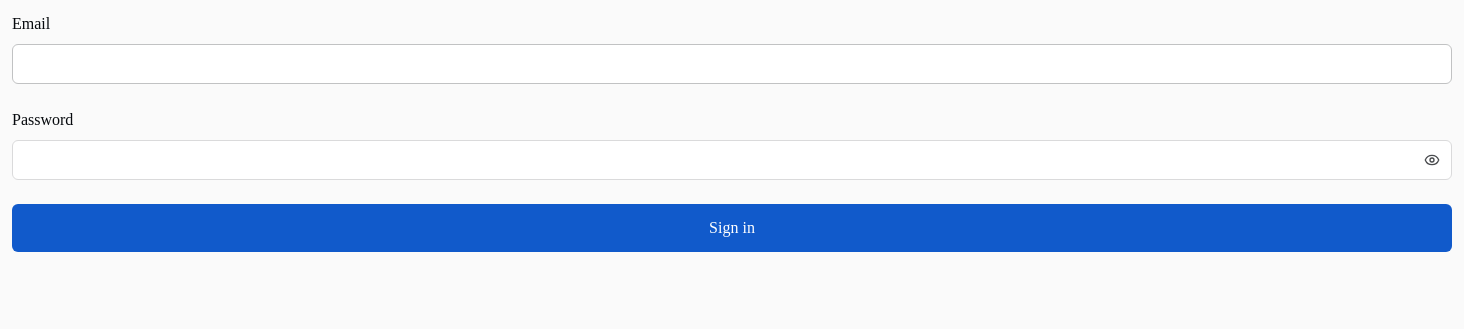
Test: LoginForm › on wrong credentials keeps the email, clears the password and focuses it
This screenshot has width=1464, height=329.
Type "jane@example.com" into the field labelled "Email" at x=732, y=64, box [12,44,1452,84]
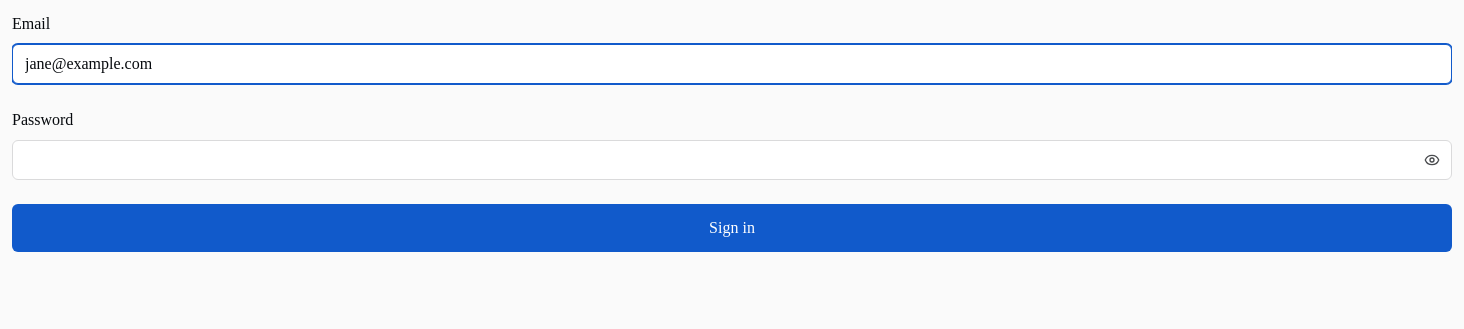
Type "wrong-pass1" into the password field labelled "Password" at x=732, y=160, box [12,140,1452,180]
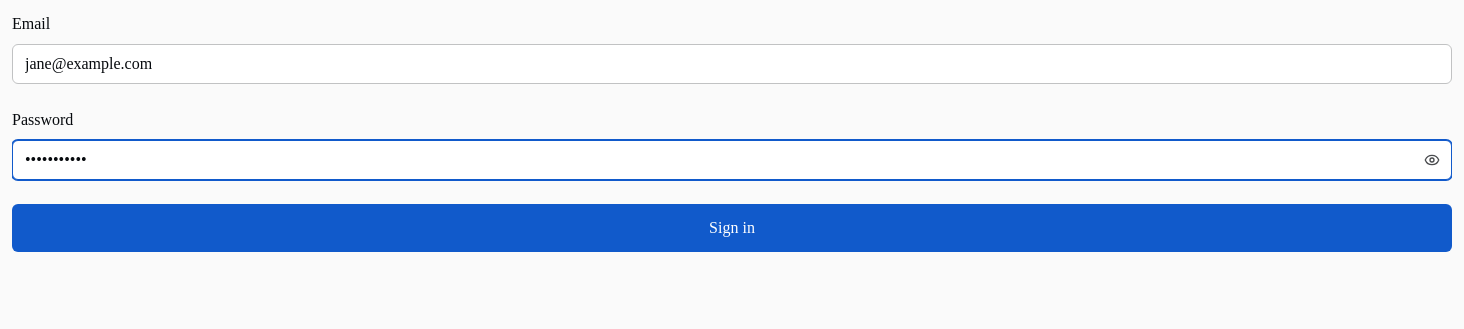
Click the button "Sign in" at x=732, y=228, box [12,204,1452,252]
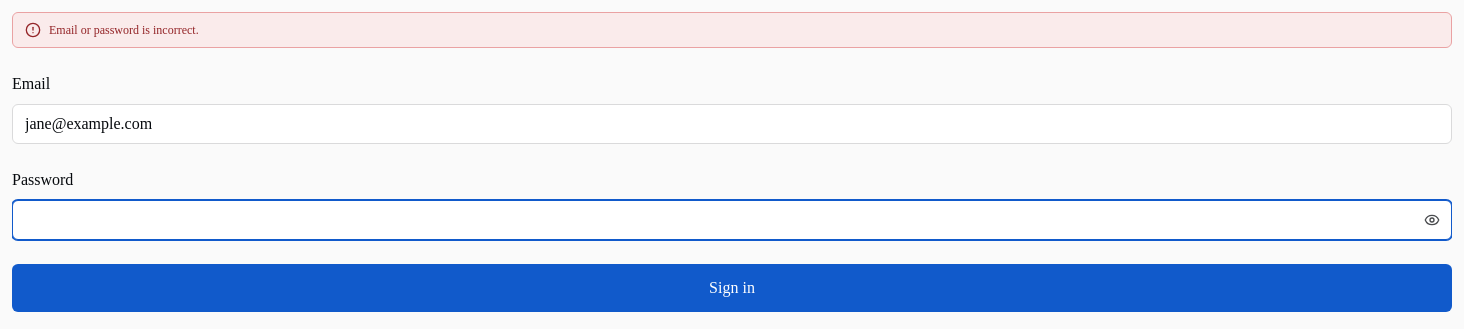
Expected: the message reads "Email or password is incorrect.", [49,23,199,37]
Expected: the password field labelled "Password" is empty, [12,200,1452,240]
